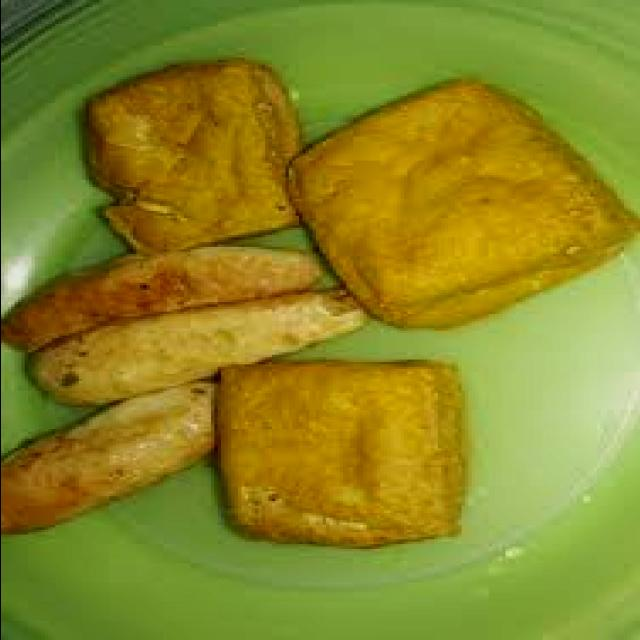tahu goreng: (291, 79, 640, 333), (213, 360, 471, 549), (81, 62, 305, 254)
